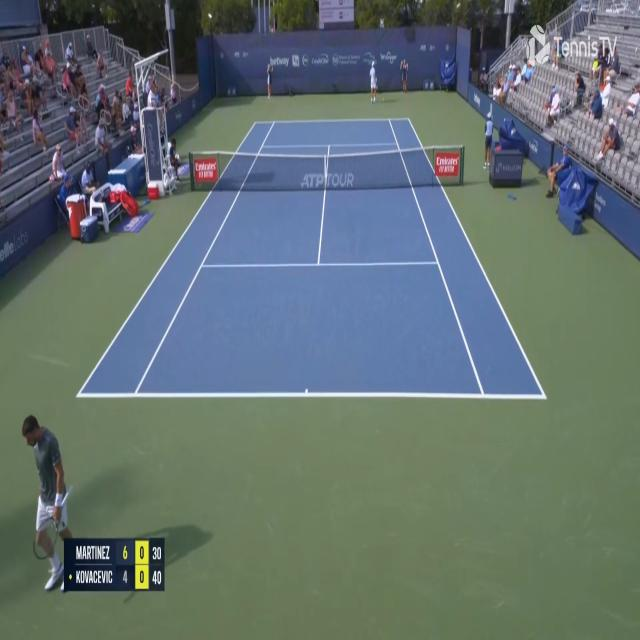tennis-player: (17, 408, 72, 599), (369, 61, 378, 104)
